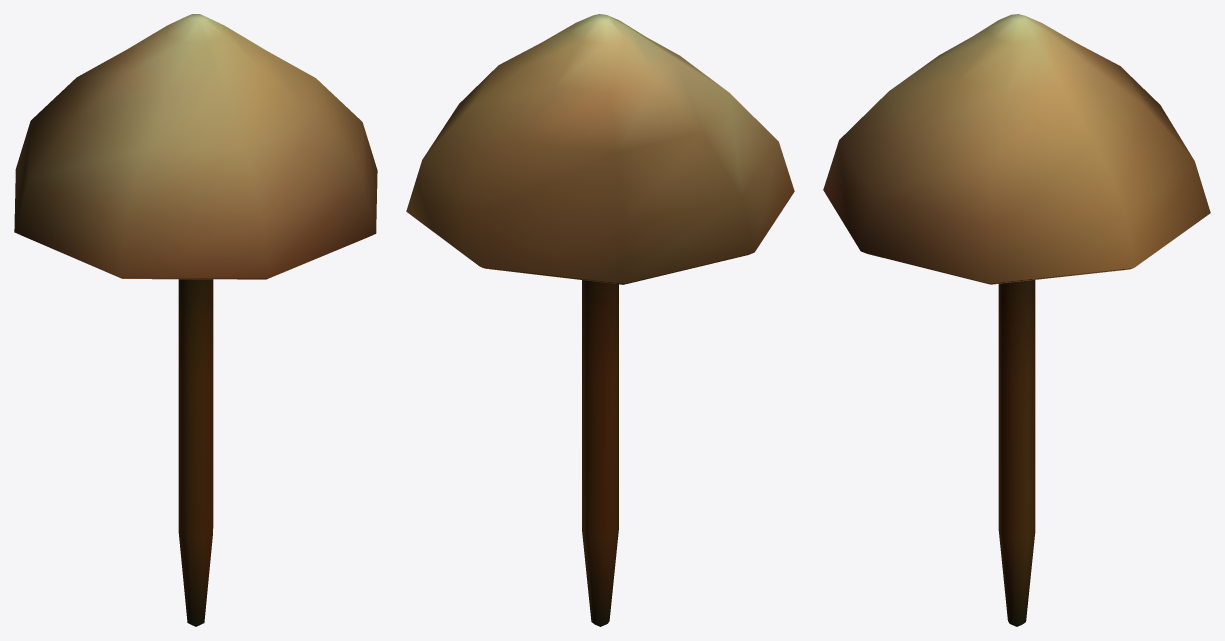
Rendered from plants-mushrooms-brown-mushroom_v3.glb.
The picture shows the model from 3 angles, left to right: view 1: azimuth 30°, elevation 25°; view 2: azimuth 150°, elevation 25°; view 3: azimuth 270°, elevation 25°; orthographic projection.
Parts seen in each view (by area): view 1: Brown Mushroom_v3; view 2: Brown Mushroom_v3; view 3: Brown Mushroom_v3.
Part boxes in pixels (x1,y1,x2,y2): Brown Mushroom_v3: [14, 14, 377, 626]; Brown Mushroom_v3: [406, 14, 794, 626]; Brown Mushroom_v3: [823, 14, 1210, 626].
Size of the model in its own units: 0.0692 by 0.12 by 0.0692.
